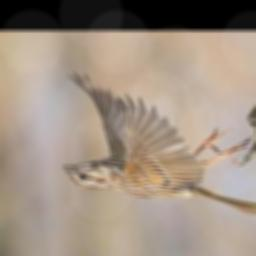Sparrow: (63, 69, 256, 227)
